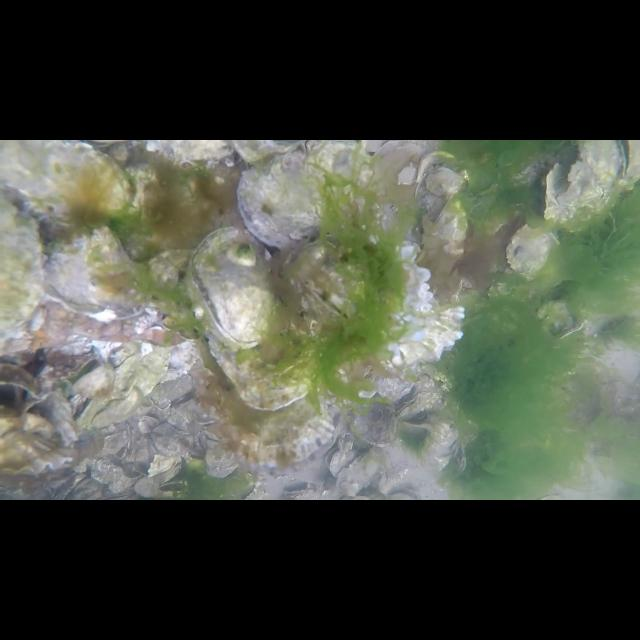Oyster-Closed: (282, 240, 464, 368), (236, 140, 372, 252), (204, 296, 326, 410), (214, 358, 332, 466), (45, 225, 151, 321), (0, 140, 136, 210), (80, 348, 172, 426), (544, 140, 622, 224), (1, 200, 40, 334), (504, 224, 558, 282), (1, 434, 72, 476), (414, 150, 466, 202), (352, 391, 398, 445), (431, 197, 469, 259), (336, 448, 386, 494), (0, 405, 54, 441), (372, 363, 418, 399), (207, 430, 240, 480), (328, 412, 346, 444)
Oyster-Open: (188, 225, 278, 349), (0, 362, 44, 418), (616, 140, 640, 188), (326, 446, 356, 476), (396, 394, 429, 420), (399, 414, 433, 432)
